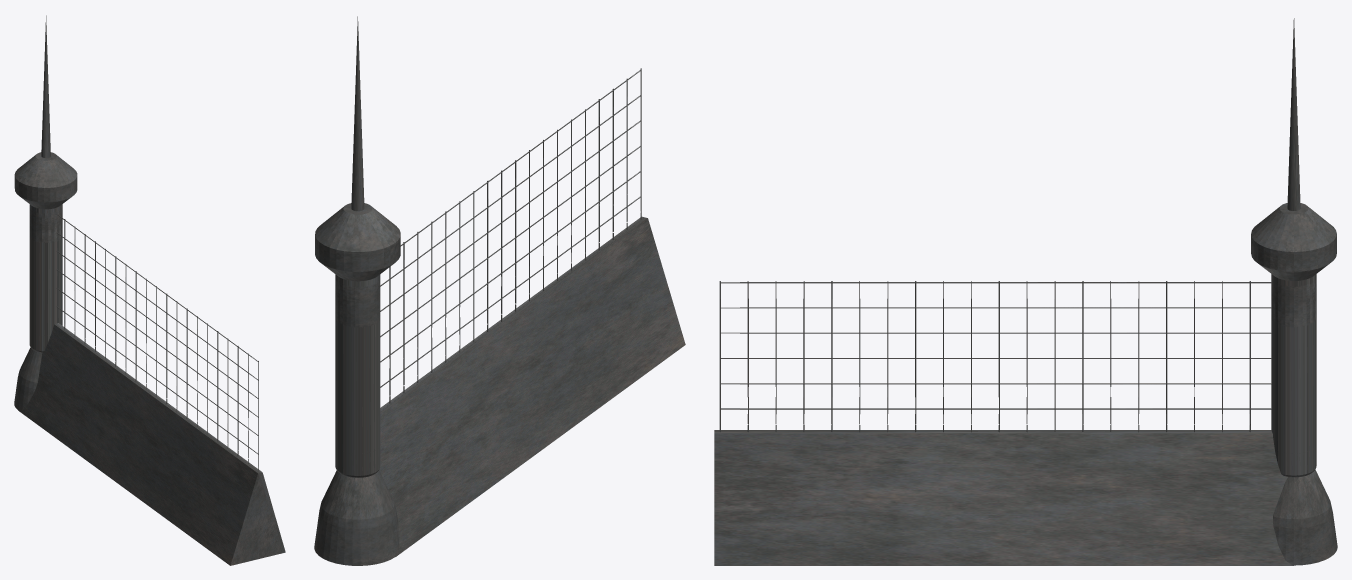
The model's file is Fence.obj.
The picture shows the model from 3 angles, left to right: view 1: azimuth 30°, elevation 25°; view 2: azimuth 150°, elevation 25°; view 3: azimuth 270°, elevation 25°; orthographic projection. The views are drawn at different scales.
Visible parts, largest first — view 1: Fence; view 2: Fence; view 3: Fence.
Boxes of the visible parts, x1,y1,x2,y2 form: Fence: [14, 15, 285, 565]; Fence: [314, 16, 685, 565]; Fence: [714, 18, 1337, 565].
Size of the model in its own units: 3.13 by 21.11 by 22.36.
1 material, 1 textured.
